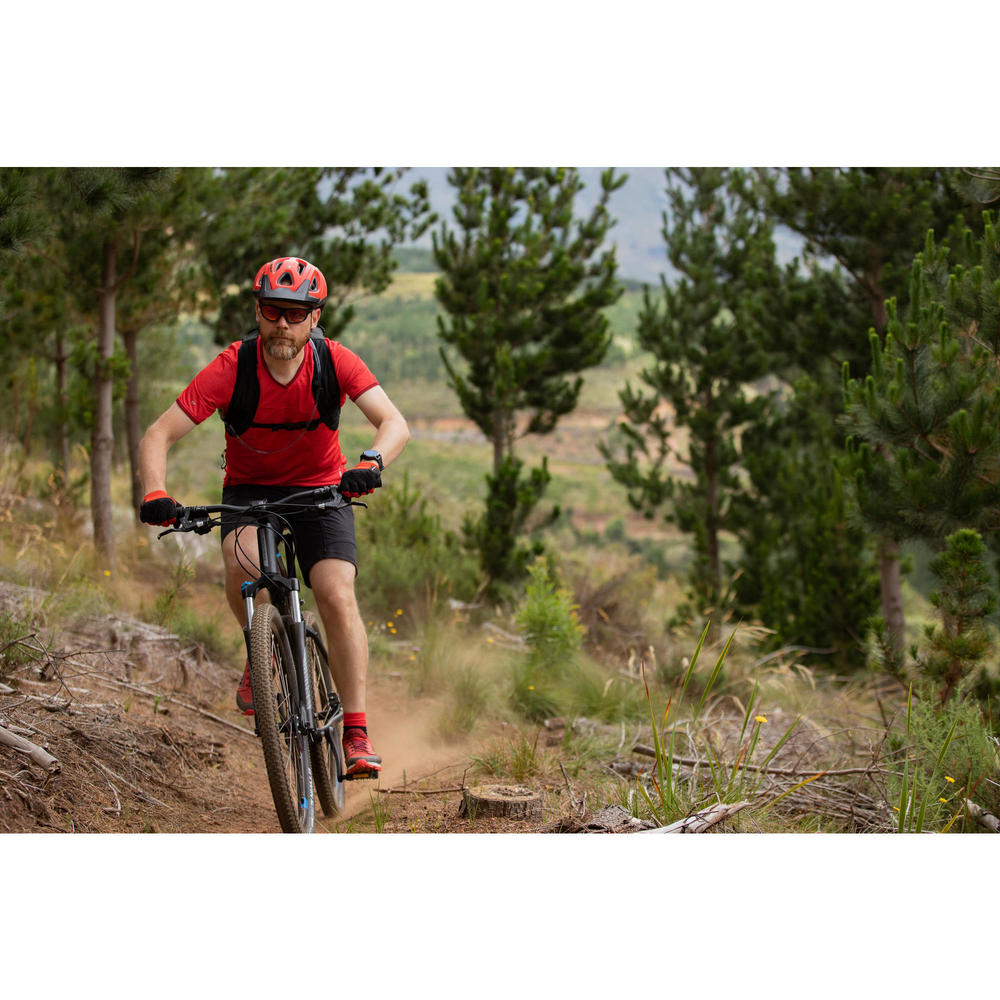MountainBike: (137, 460, 371, 835)
